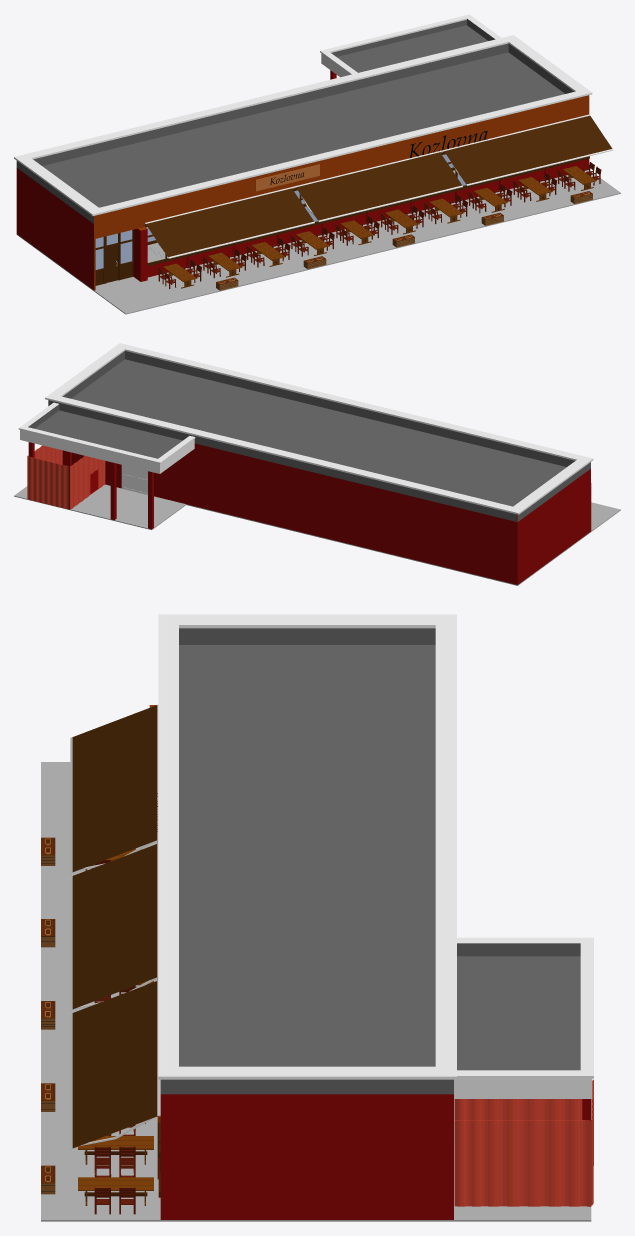
The model's file is Kozlovna.glb.
3 renders of one model, top to bottom at view 1: azimuth 30°, elevation 25°; view 2: azimuth 150°, elevation 25°; view 3: azimuth 270°, elevation 25°, orthographic. The views are drawn at different scales.
Visible parts, largest first — view 1: plech.002, Cube.024; view 2: plech.002; view 3: plech.002.
Part boxes in pixels (x1=…): plech.002: x1=14, y1=14, x2=620, y2=314; Cube.024: x1=255, y1=164, x2=319, y2=191; plech.002: x1=14, y1=343, x2=620, y2=585; plech.002: x1=41, y1=614, x2=593, y2=1221.
Bounding box in the file's own units: 16.78 × 2.5 × 8.49.
